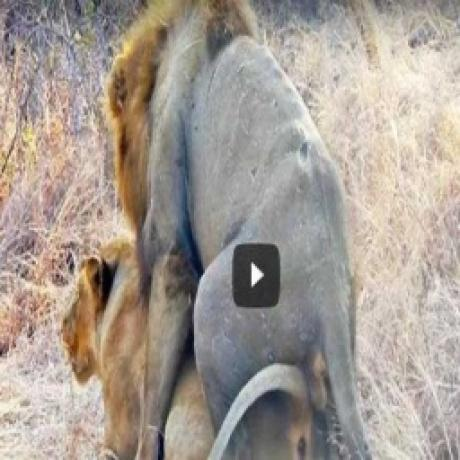Lion: (104, 0, 376, 460), (58, 238, 330, 460)
